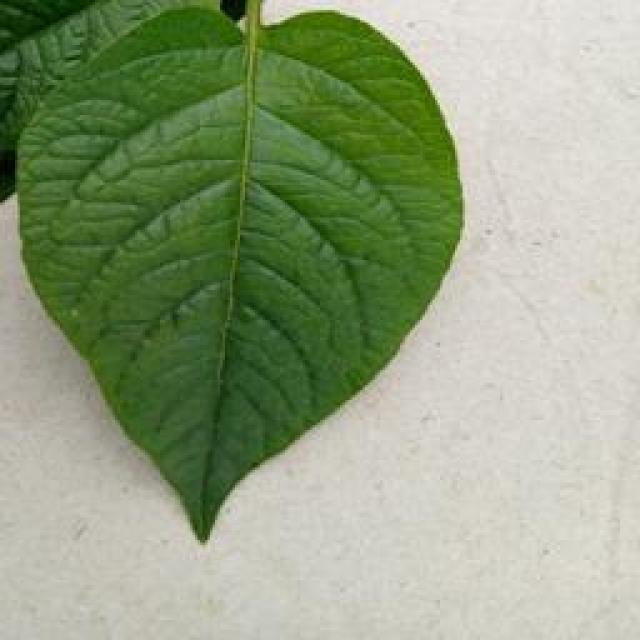healthy: (10, 0, 468, 545)
